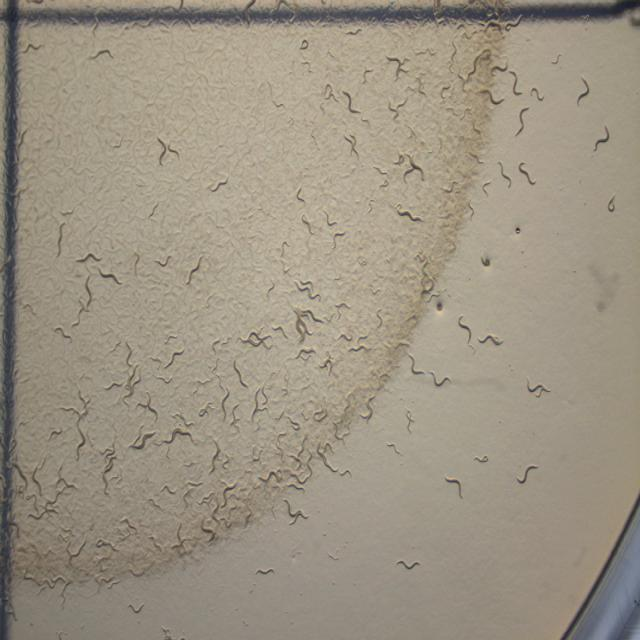filarid: (76, 252, 122, 311), (48, 464, 78, 504), (63, 407, 85, 460), (292, 307, 322, 343), (318, 444, 351, 475), (101, 442, 116, 494), (284, 499, 309, 523), (404, 153, 424, 181), (396, 204, 424, 222), (162, 427, 191, 444), (186, 255, 203, 283), (129, 432, 155, 450), (12, 462, 28, 490), (518, 464, 538, 484), (528, 379, 549, 397), (234, 360, 248, 387), (409, 354, 426, 375), (429, 370, 450, 387), (345, 133, 359, 158), (445, 476, 462, 496), (209, 175, 229, 192), (458, 319, 471, 345), (519, 163, 535, 184), (157, 137, 169, 164), (32, 465, 42, 497), (221, 387, 230, 420), (398, 559, 420, 571), (479, 334, 501, 345), (130, 252, 140, 276), (58, 222, 65, 256), (501, 163, 511, 186), (323, 210, 336, 226), (272, 325, 288, 337), (76, 439, 85, 458), (296, 185, 305, 202), (474, 454, 489, 463), (388, 444, 400, 454), (255, 567, 275, 573), (608, 197, 615, 212), (175, 427, 189, 434), (595, 138, 604, 148), (406, 412, 411, 430), (481, 257, 490, 267), (114, 137, 122, 148), (482, 182, 489, 194), (605, 127, 610, 139), (78, 422, 82, 435), (515, 227, 520, 234)
